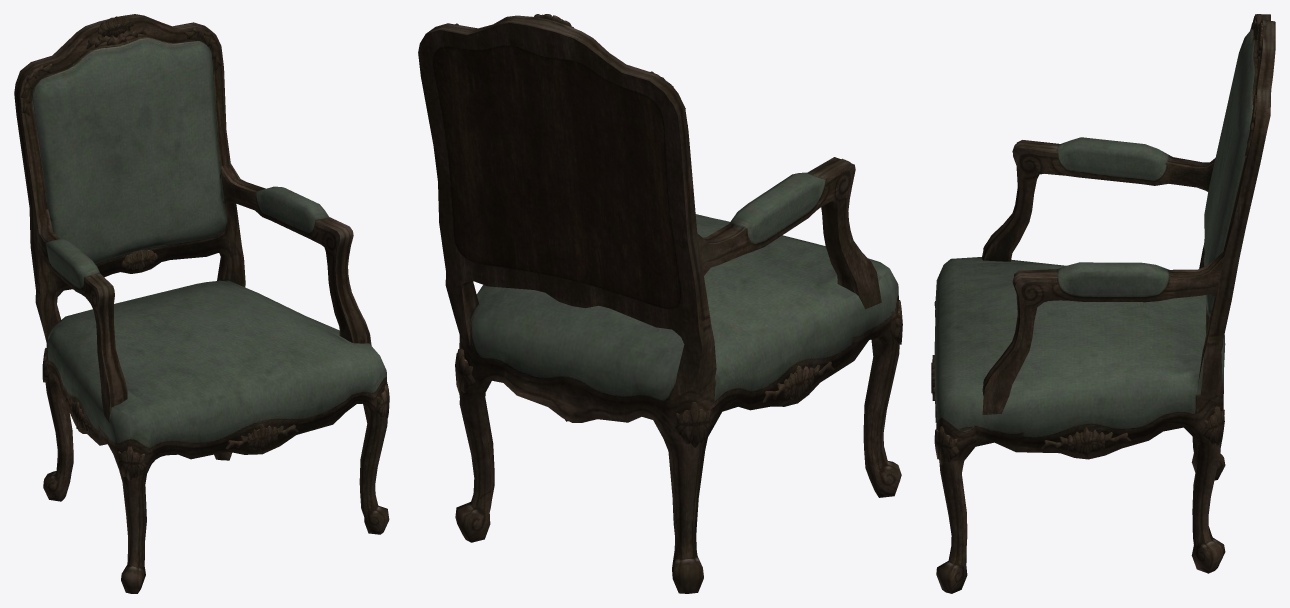
File: GreenChair_01.gltf
The picture shows the model from 3 angles, left to right: view 1: azimuth 30°, elevation 25°; view 2: azimuth 150°, elevation 25°; view 3: azimuth 270°, elevation 25°; orthographic projection. The views are drawn at different scales.
Visible parts, largest first — view 1: GreenChair_01; view 2: GreenChair_01; view 3: GreenChair_01.
Part boxes in pixels (x1,y1,x2,y2): GreenChair_01: (14, 14, 389, 593); GreenChair_01: (418, 14, 902, 593); GreenChair_01: (931, 14, 1275, 593).
Bounding box in the file's own units: 0.6731 × 1.06 × 0.6644.
1 material, 1 textured.
